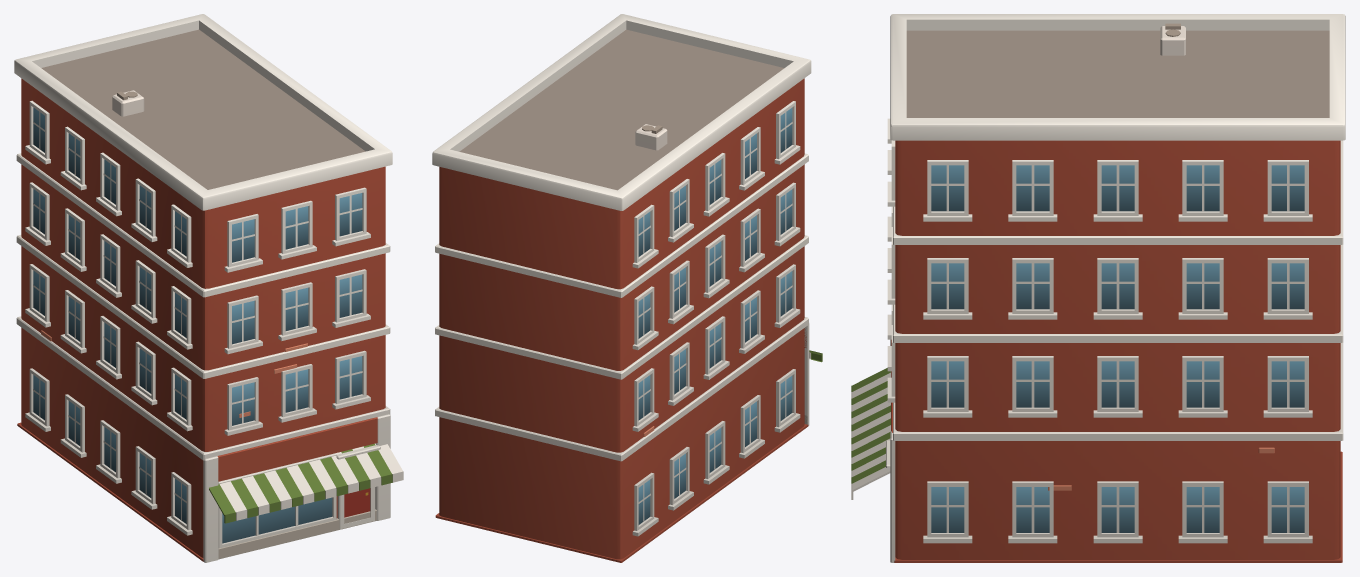
Rendered from boylston_s16.glb.
The picture shows the model from 3 angles, left to right: view 1: azimuth 30°, elevation 25°; view 2: azimuth 150°, elevation 25°; view 3: azimuth 270°, elevation 25°; orthographic projection. The views are drawn at different scales.
Parts seen in each view (by area): view 1: boylston_s16; view 2: boylston_s16; view 3: boylston_s16.
Boxes of the visible parts, bbox=[...] form: boylston_s16: bbox=[14, 14, 403, 562]; boylston_s16: bbox=[432, 14, 822, 562]; boylston_s16: bbox=[851, 14, 1345, 562].
Size of the model in its own units: 8.48 by 15.59 by 15.55.
1 material, 1 textured.
